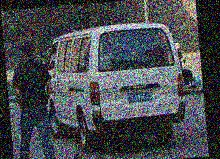van: (36, 18, 189, 155)
